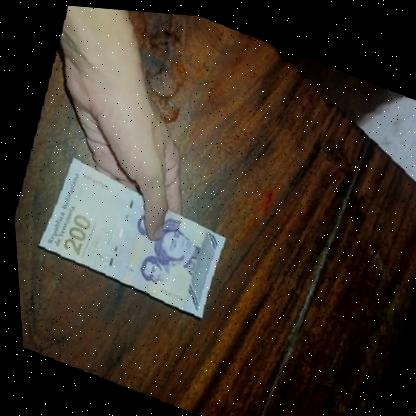two_hundred-front-vef: (23, 147, 235, 322)
